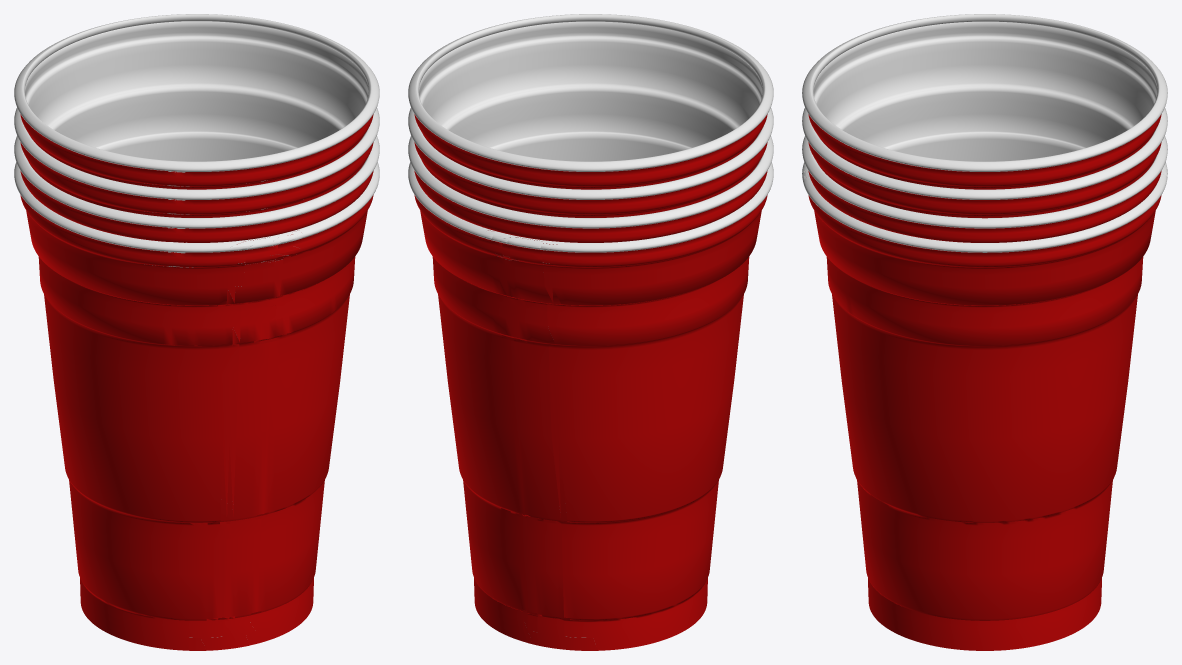
The model's file is cups4.glb.
3 views of the same model, side by side, from view 1: azimuth 30°, elevation 25°; view 2: azimuth 150°, elevation 25°; view 3: azimuth 270°, elevation 25° (orthographic).
Visible parts, largest first — view 1: BottomCup, RedCup_1, BottomCup.001, HalfCup; view 2: BottomCup, RedCup_1, BottomCup.001, HalfCup; view 3: BottomCup.001, RedCup_1.
Part boxes in pixels (x1,y1,x2,y2): BottomCup: [14, 162, 300, 650]; RedCup_1: [14, 14, 379, 621]; BottomCup.001: [255, 162, 379, 644]; HalfCup: [189, 230, 308, 650]; BottomCup: [489, 162, 773, 650]; RedCup_1: [408, 14, 773, 618]; BottomCup.001: [408, 162, 555, 643]; HalfCup: [478, 227, 598, 650]; BottomCup.001: [802, 171, 1167, 650]; RedCup_1: [802, 14, 1167, 242].
Size of the model in its own units: 0.091 by 0.1412 by 0.091.
